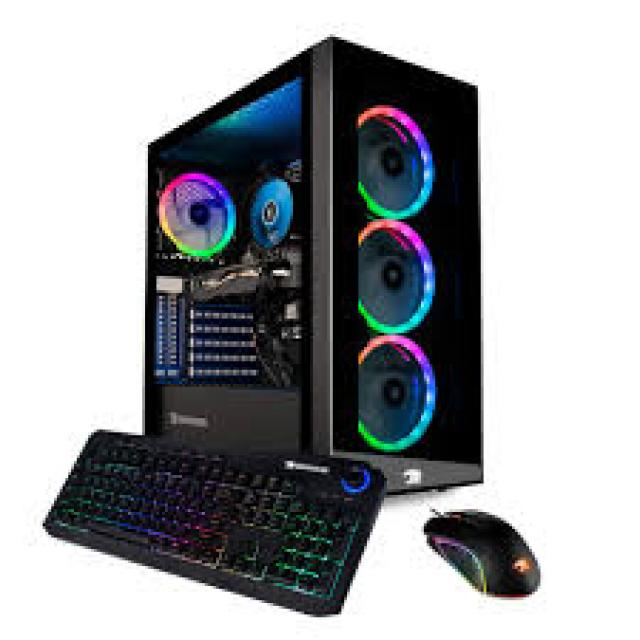Computer: (113, 28, 518, 490)
